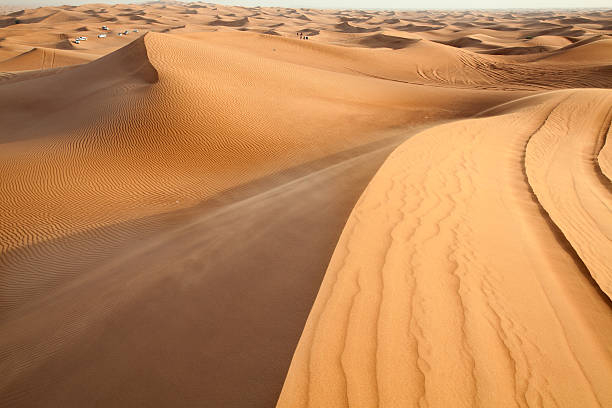vehicle_track: (512, 98, 611, 360), (578, 92, 611, 228)
